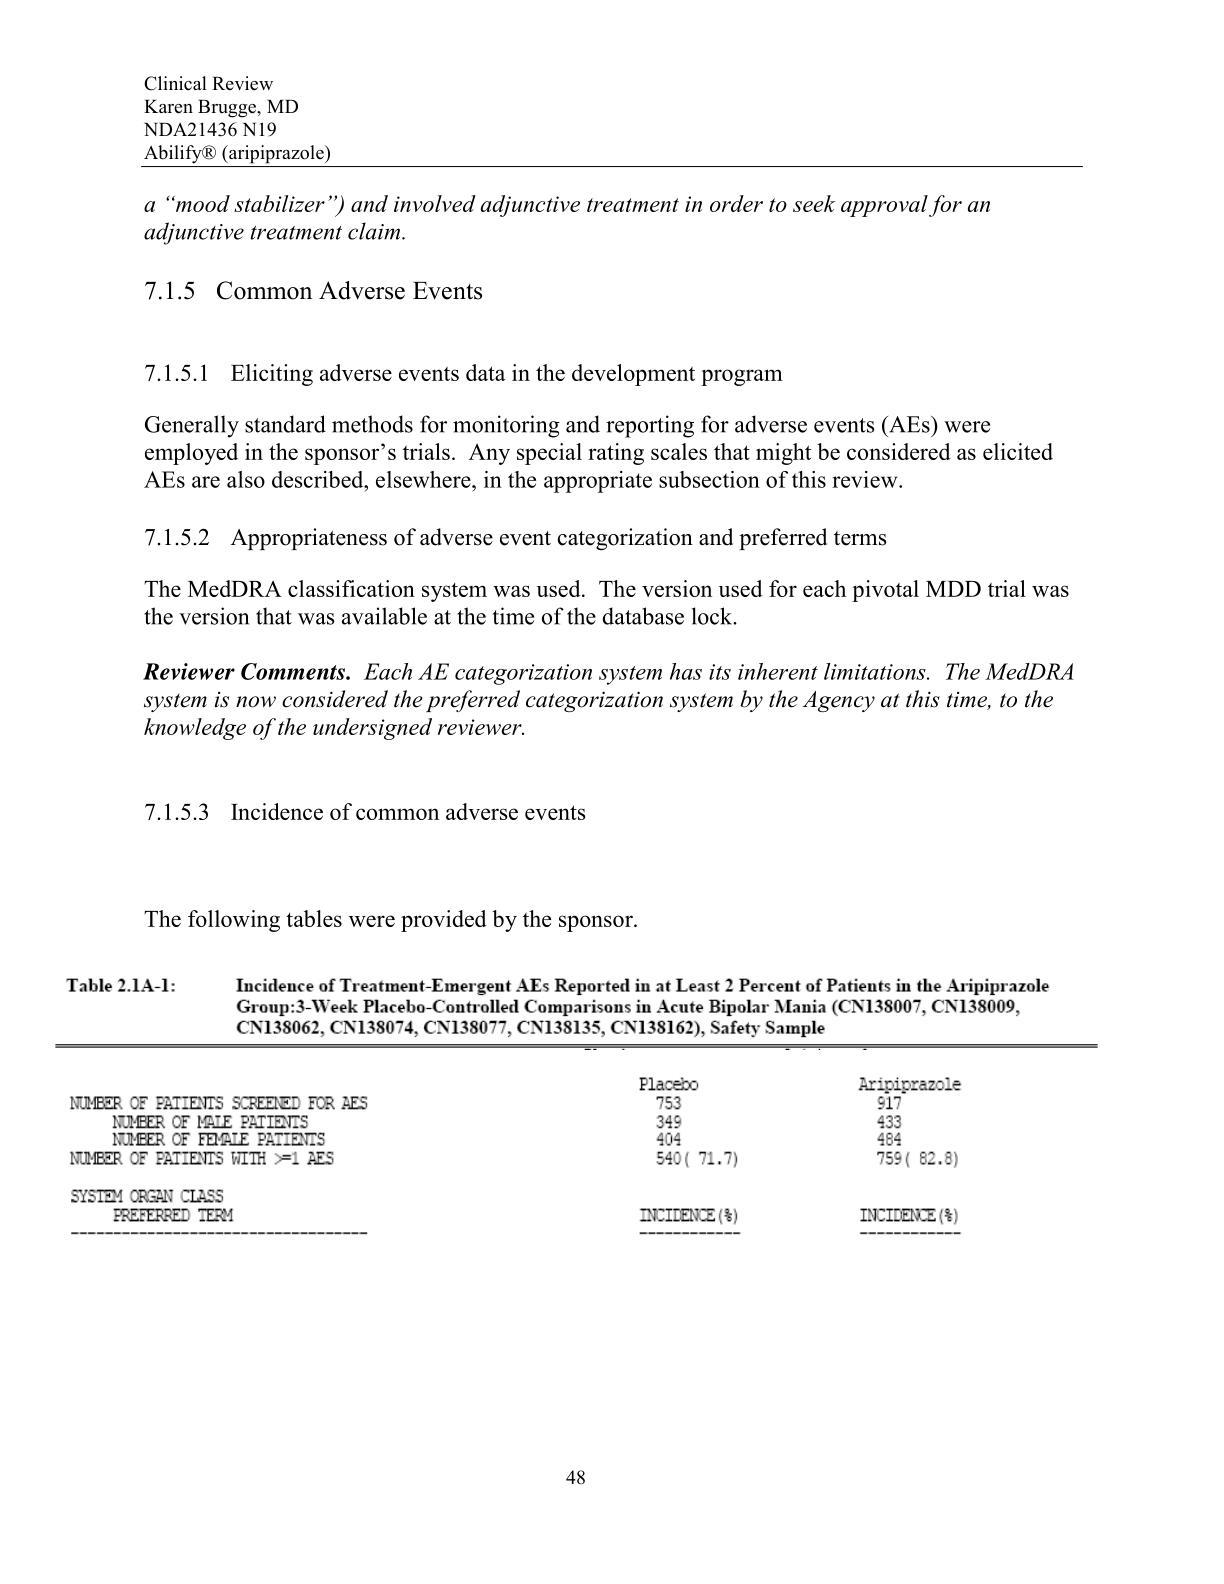partial_lined: (57, 1044, 1099, 1239)
